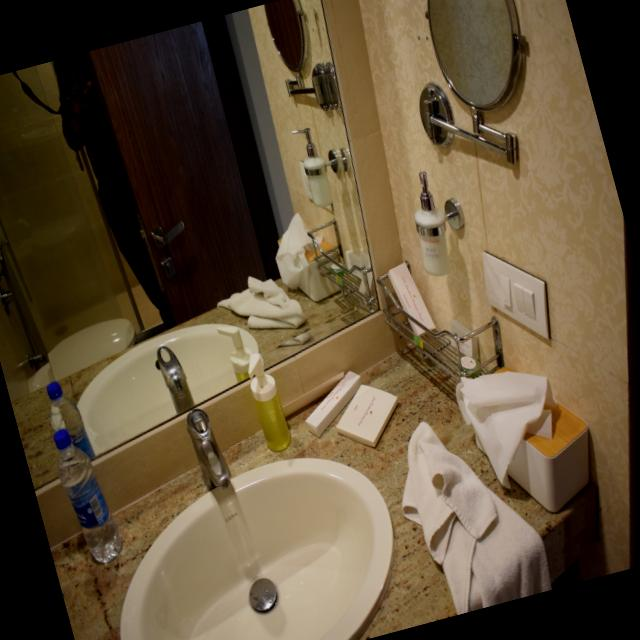mess: (21, 288, 640, 640)
